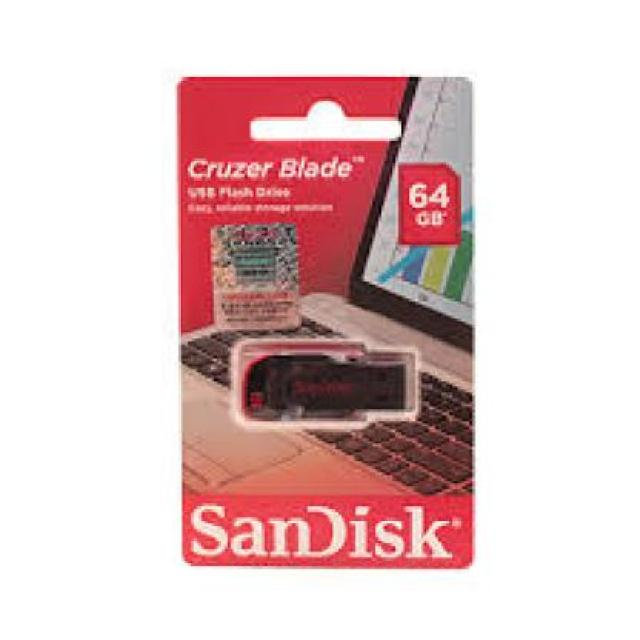Flashdisk: (242, 346, 410, 425)
